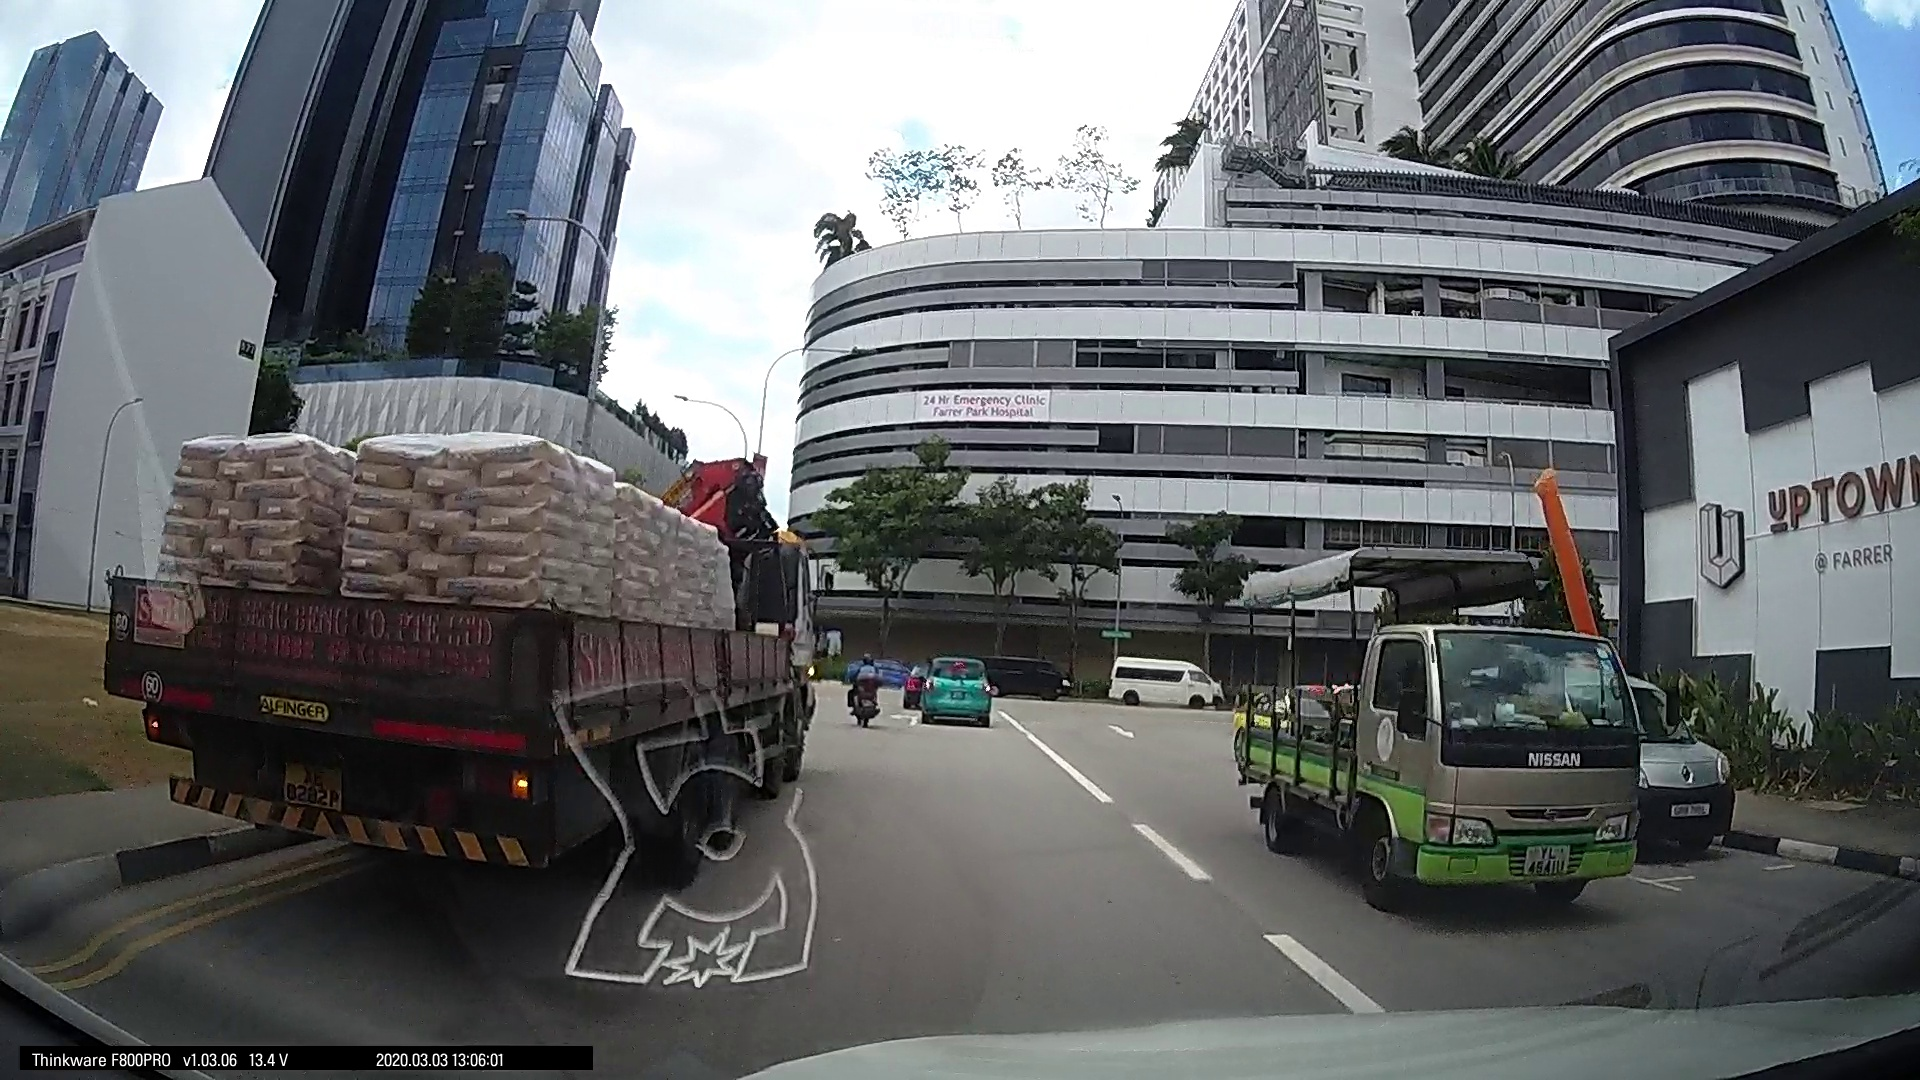Heavy Vehicle: (109, 367, 814, 887), (1246, 608, 1648, 909)
Light Vehicle: (1630, 725, 1738, 855), (1098, 651, 1224, 712), (913, 657, 990, 725), (978, 647, 1068, 696)
